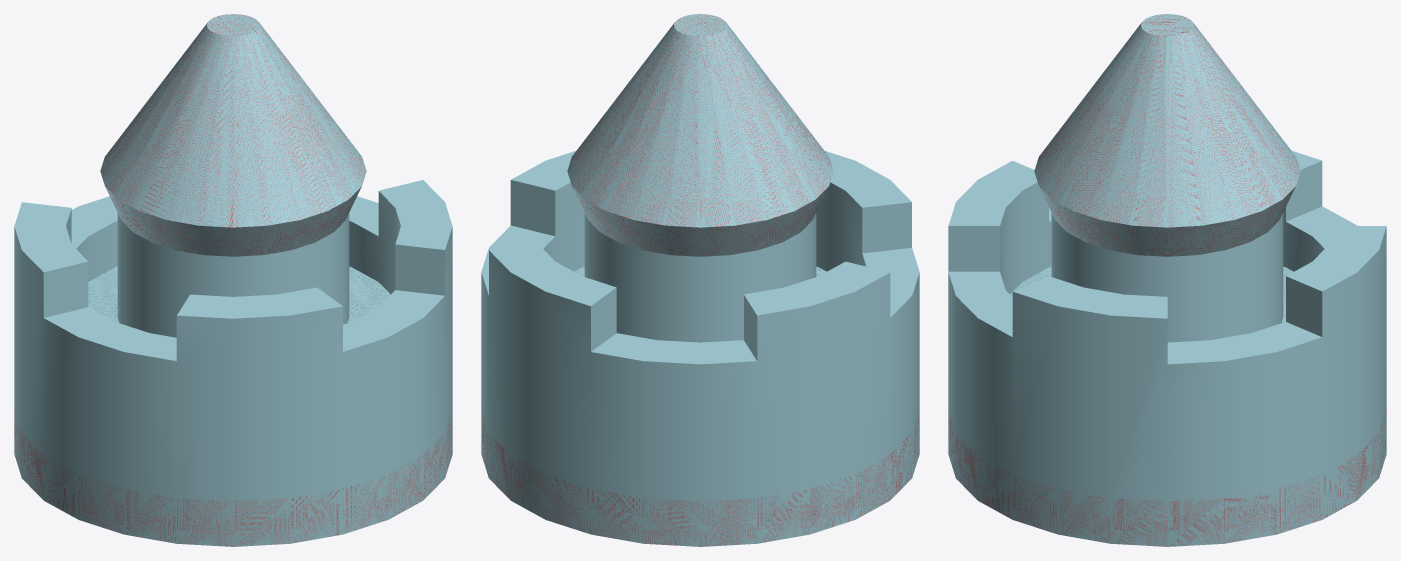
File: towerRound_roofA.dae
The picture shows the model from 3 angles, left to right: view 1: azimuth 30°, elevation 25°; view 2: azimuth 150°, elevation 25°; view 3: azimuth 270°, elevation 25°; orthographic projection.
Parts seen in each view (by area): view 1: towerRound_roofA; view 2: towerRound_roofA; view 3: towerRound_roofA.
Boxes of the visible parts, <box> form: towerRound_roofA: <box>14,14,452,546</box>; towerRound_roofA: <box>481,14,919,546</box>; towerRound_roofA: <box>948,14,1386,546</box>.
Bounding box in the file's own units: 0.87 × 0.94 × 0.87.
